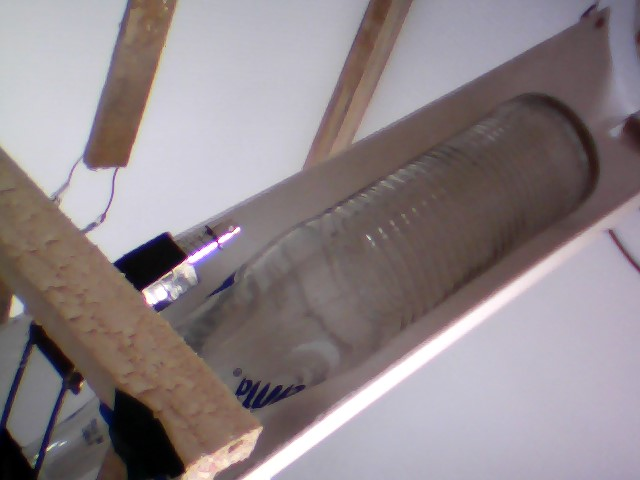vidrio: (170, 86, 602, 413)
